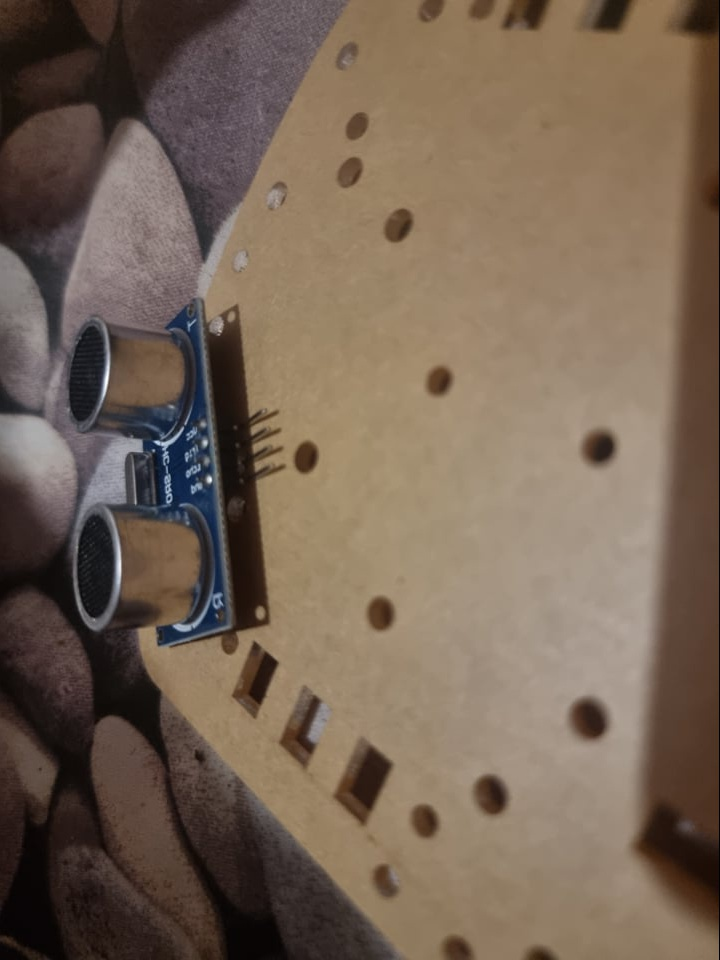SENSOR: (63, 296, 238, 651)
